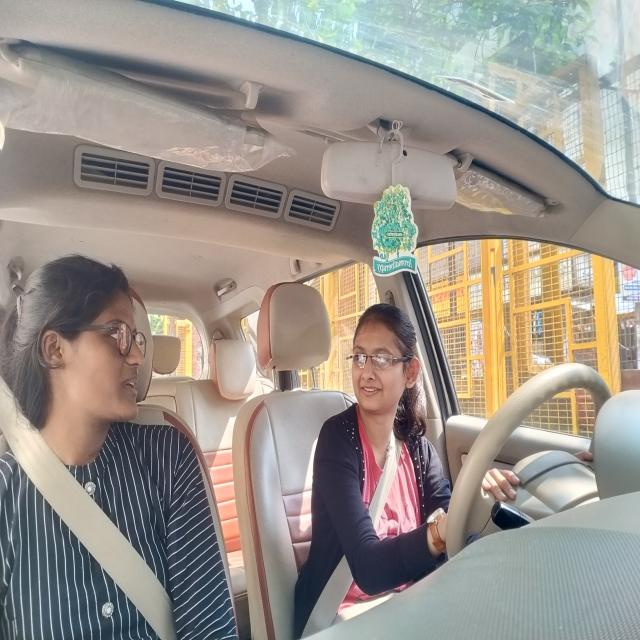LeftRight: (348, 300, 422, 415)
person: (23, 251, 159, 437)
talking: (358, 380, 386, 399)
